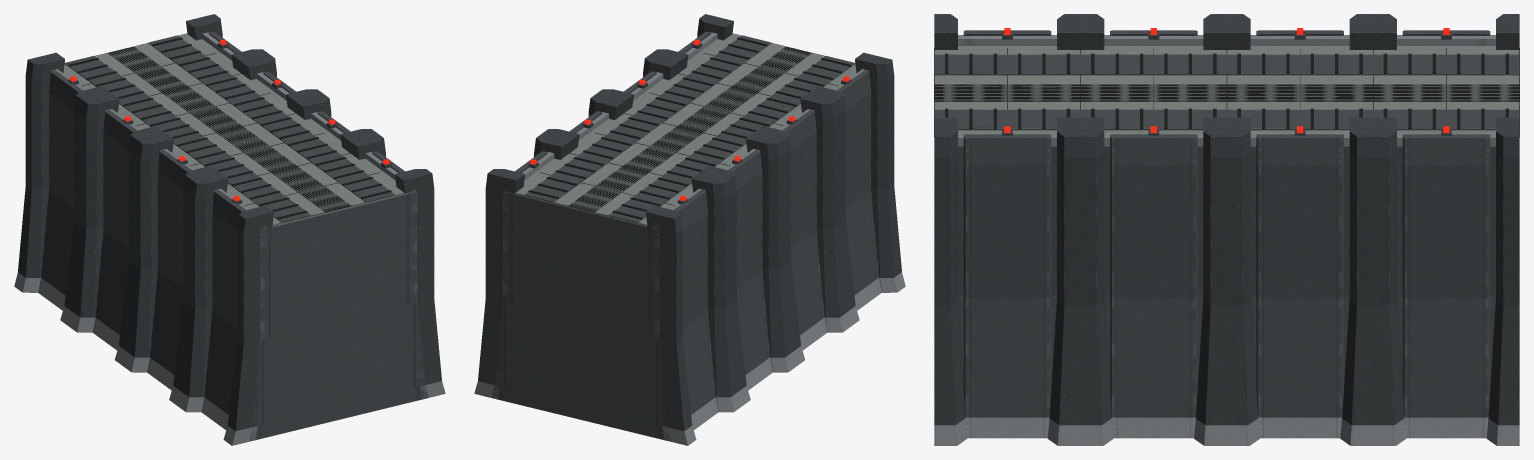
File: straight.glb
The picture shows the model from 3 angles, left to right: view 1: azimuth 30°, elevation 25°; view 2: azimuth 150°, elevation 25°; view 3: azimuth 270°, elevation 25°; orthographic projection. The views are drawn at different scales.
Visible parts, largest first — view 1: straight-lod0-roof0, straight-lod0-base0, straight-lod0-floor0; view 2: straight-lod0-roof0, straight-lod0-base0, straight-lod0-floor0; view 3: straight-lod0-roof0, straight-lod0-base0, straight-lod0-floor0.
Boxes of the visible parts, left/top/right/bottom form: straight-lod0-roof0: left=25, top=14, right=434, bottom=245; straight-lod0-base0: left=14, top=185, right=445, bottom=445; straight-lod0-floor0: left=25, top=86, right=434, bottom=344; straight-lod0-roof0: left=485, top=14, right=894, bottom=245; straight-lod0-base0: left=474, top=185, right=905, bottom=445; straight-lod0-floor0: left=485, top=86, right=894, bottom=344; straight-lod0-roof0: left=934, top=14, right=1519, bottom=173; straight-lod0-base0: left=934, top=295, right=1519, bottom=445; straight-lod0-floor0: left=934, top=162, right=1519, bottom=305.
Size of what is drawn, in the model's own units: 40.8 by 40.8 by 72.08.
Materials: 7 (7 with a texture image).
